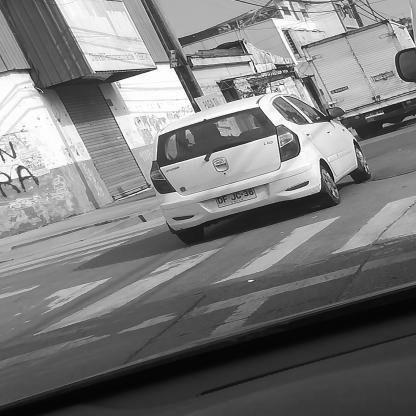Patente: (213, 186, 260, 210)
